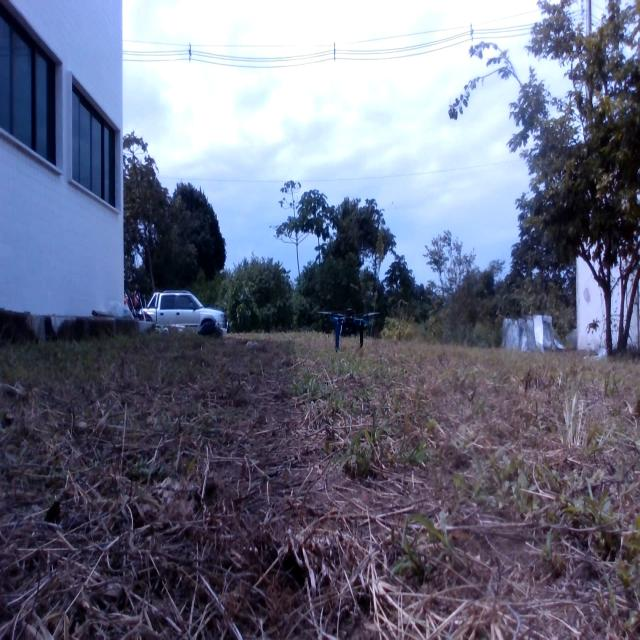-uav-: (314, 286, 381, 355)
